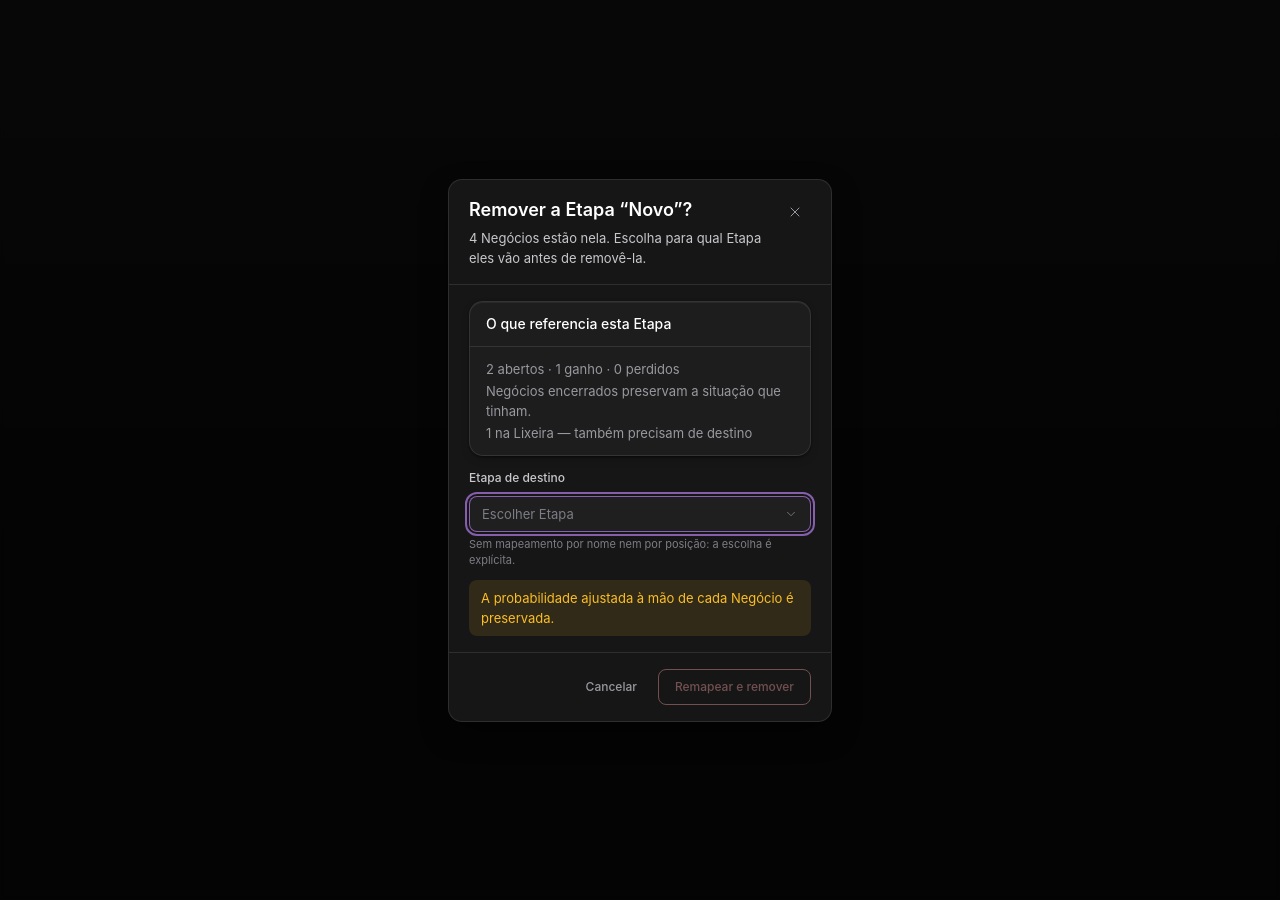
Test: RemoveStageDialog — remapear e remover pela api › (c) a recusa da api aparece no diálogo, que continua aberto
Step 1. Click the dropdown named "Etapa de destino" → x=528, y=514, box [469, 496, 811, 532]
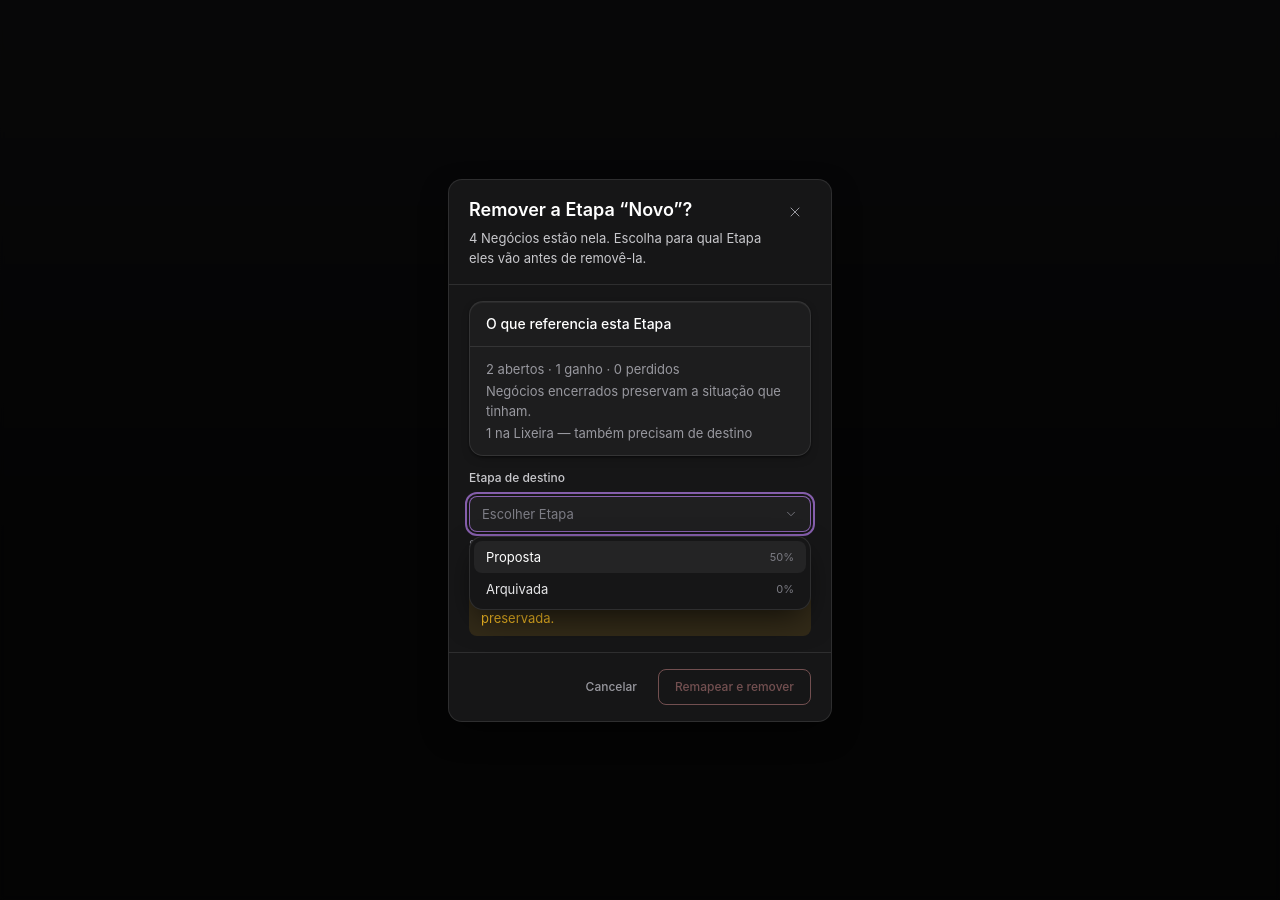
Step 2. Click the option "Proposta 50%" → x=514, y=556, box [474, 540, 806, 572]
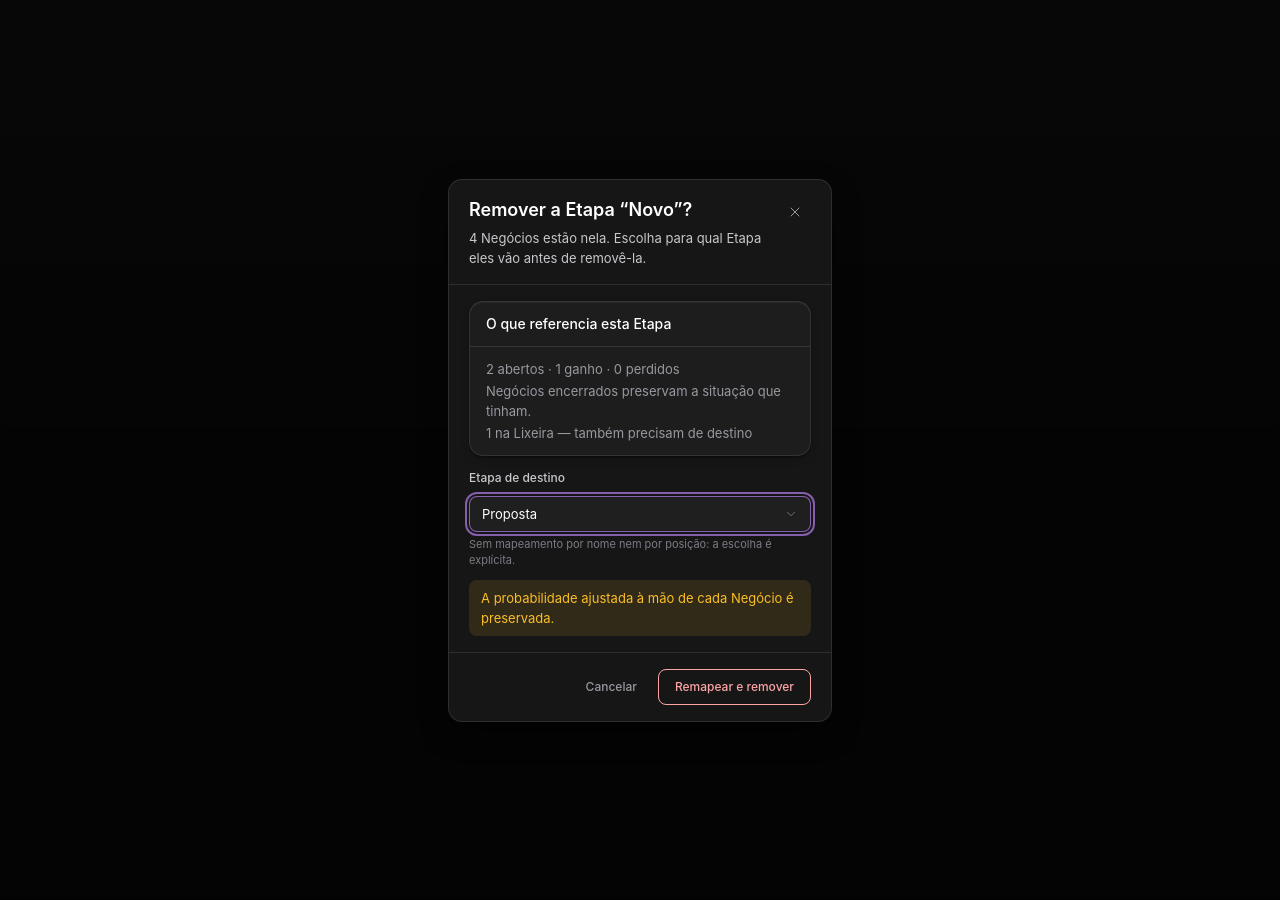
Step 3. Click the button "Remapear e remover" → x=734, y=686, box [658, 668, 811, 704]
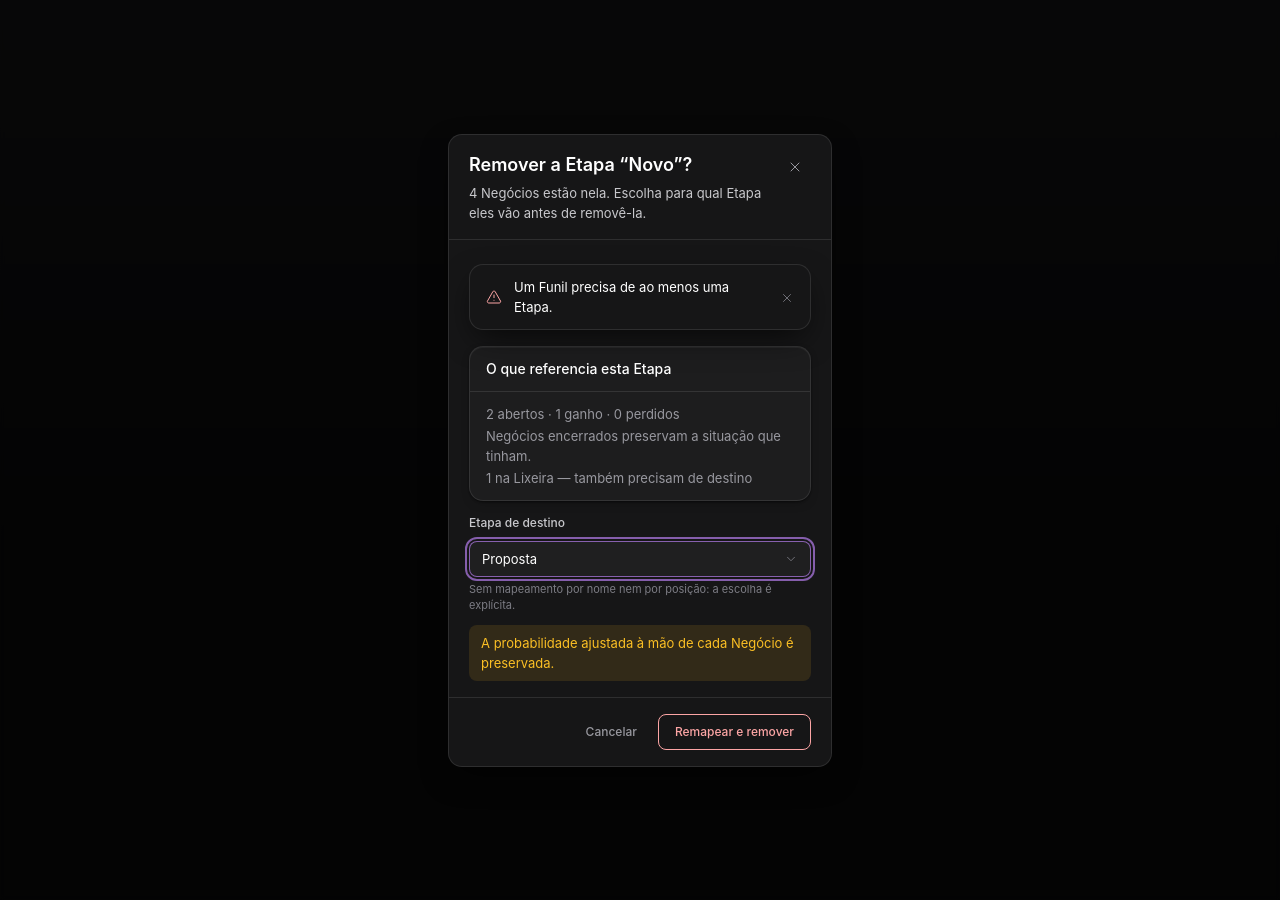
expect the dialog is shown: met, box [448, 134, 832, 766]
expect the text "Um Funil precisa de ao menos uma Etapa." is shown: met, box [514, 278, 729, 314]
